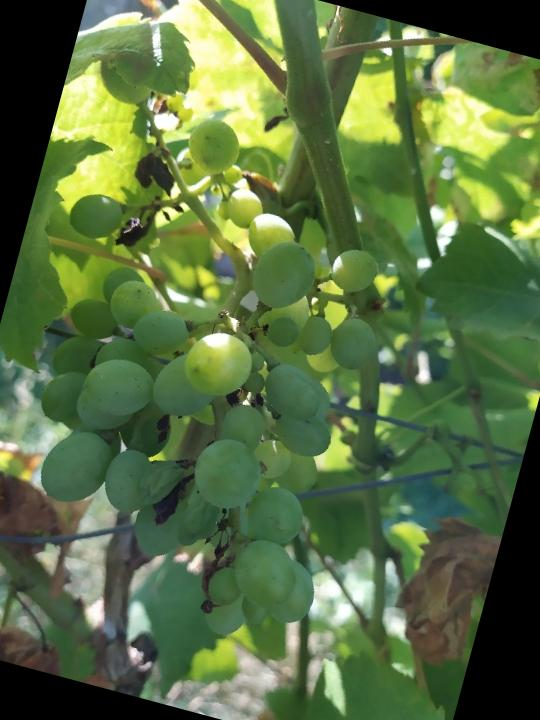grape: (0, 61, 440, 660)
